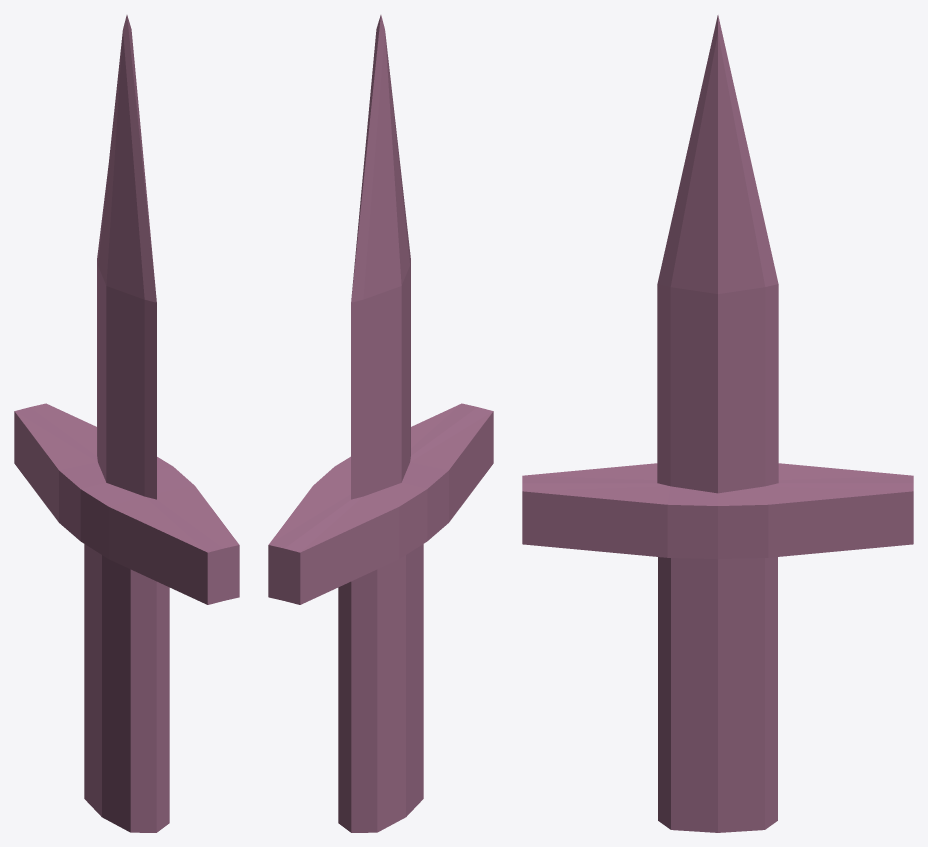
File: dagger_1.glb
3 renders of one model, left to right at view 1: azimuth 30°, elevation 25°; view 2: azimuth 150°, elevation 25°; view 3: azimuth 270°, elevation 25°, orthographic.
Parts seen in each view (by area): view 1: Cube; view 2: Cube; view 3: Cube.
Boxes of the visible parts, x1,y1,x2,y2 form: Cube: (14,15,239,832); Cube: (268,15,493,832); Cube: (522,15,913,832).
Bounding box in the file's own units: 0.2513 × 2.07 × 0.9088.
